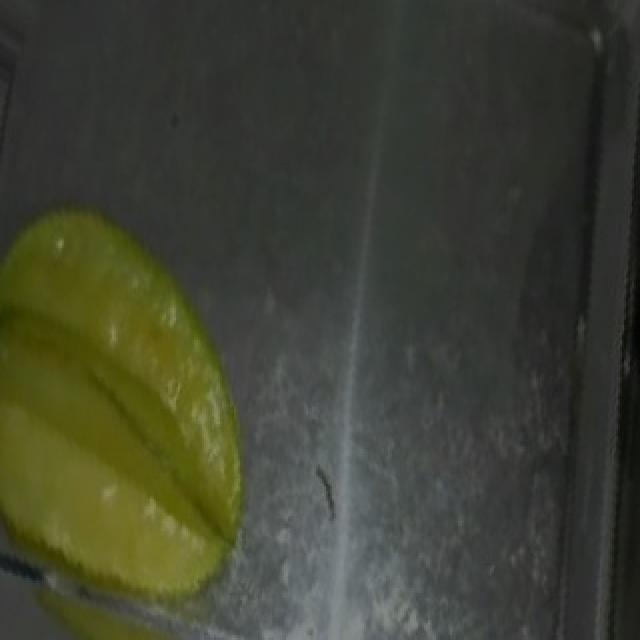fruit: (0, 173, 296, 608)
